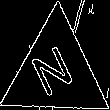N_SE: (30, 40, 83, 104)
